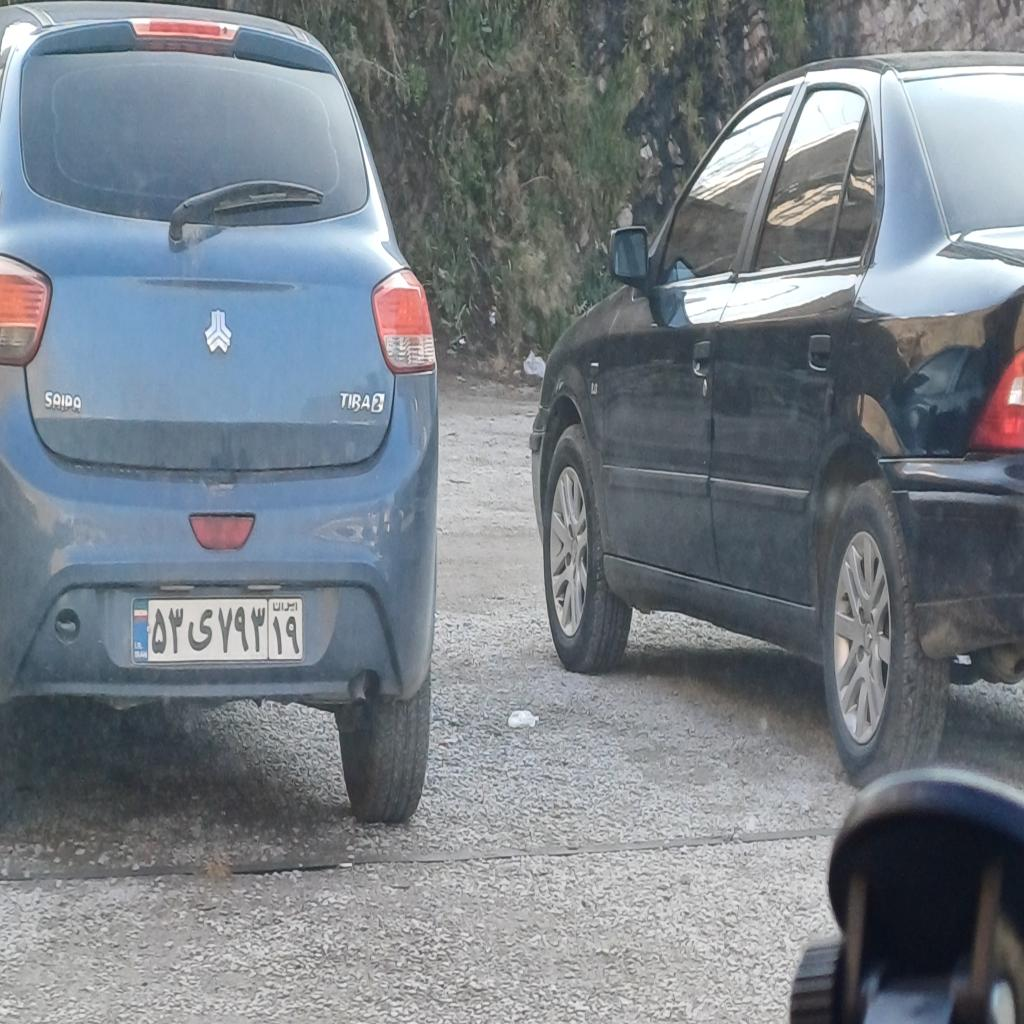Plates: (132, 596, 302, 661)
